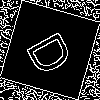D: (25, 25, 83, 79)
